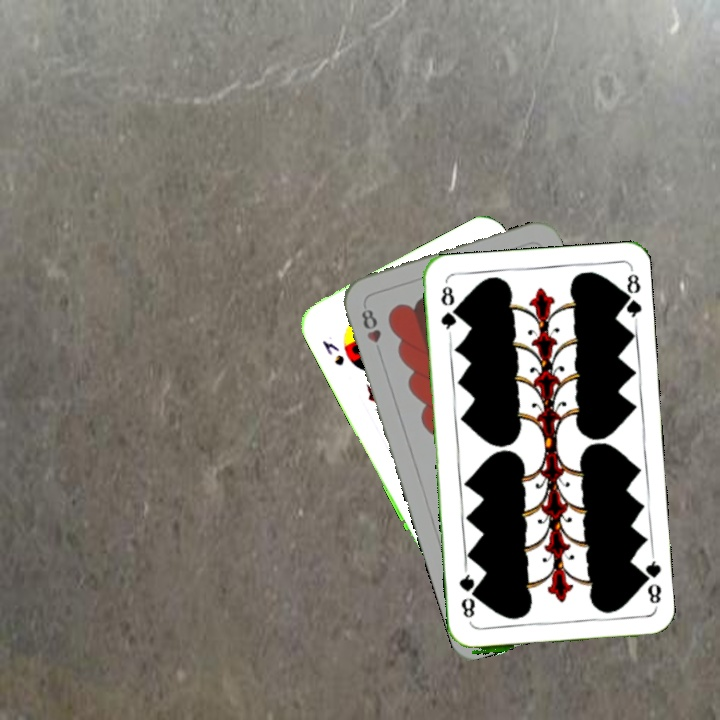G8: (636, 556, 664, 615), (437, 281, 459, 338)
H8: (357, 305, 385, 359)
SK: (317, 336, 347, 369)
